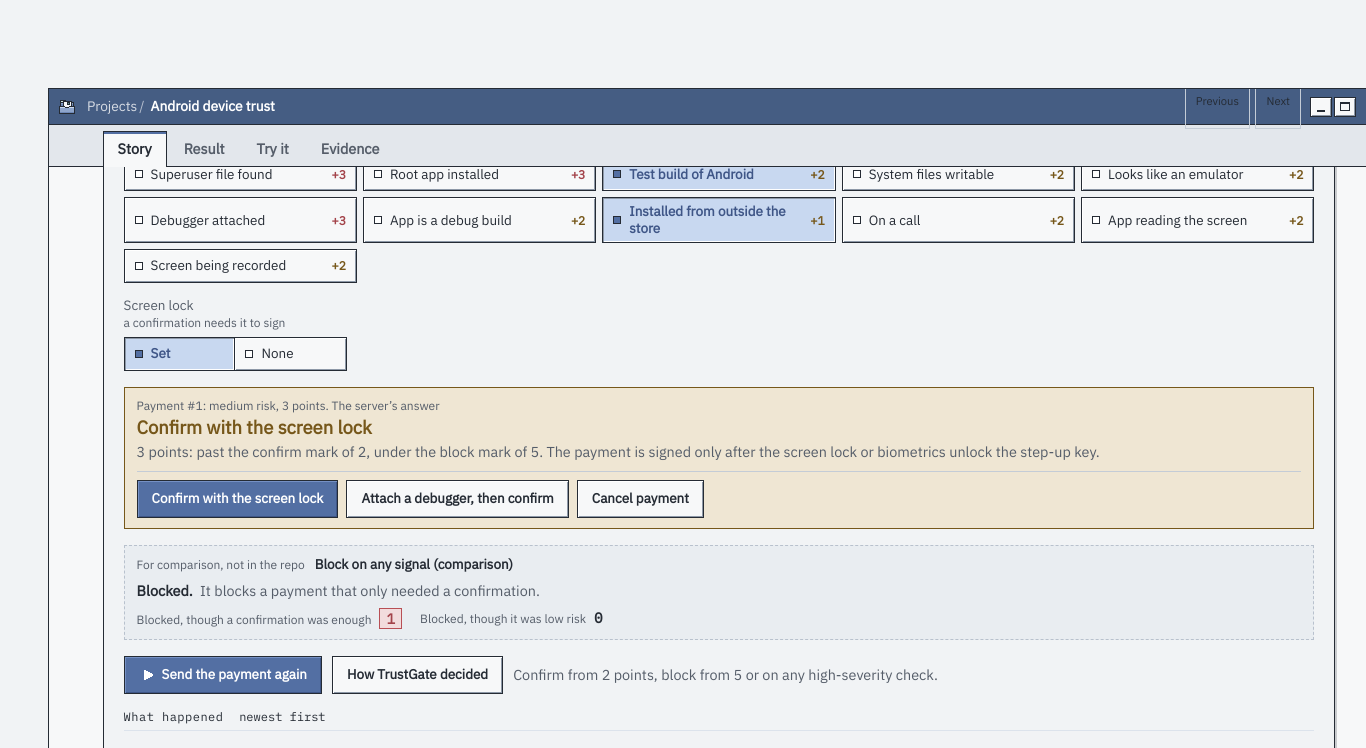
it: DebuggerWorkspace › walks through TrustGate step-up confirmation, re-checks before signing, and opens repo proof
This screenshot has width=1366, height=748.
Later steps or results of the test are not shown.
(page scrolled)
Expected: the text "Confirm with the screen lock" is shown, [137,415,372,439]
Click the button "Confirm with the screen lock": (238, 499) [137,480,338,518]
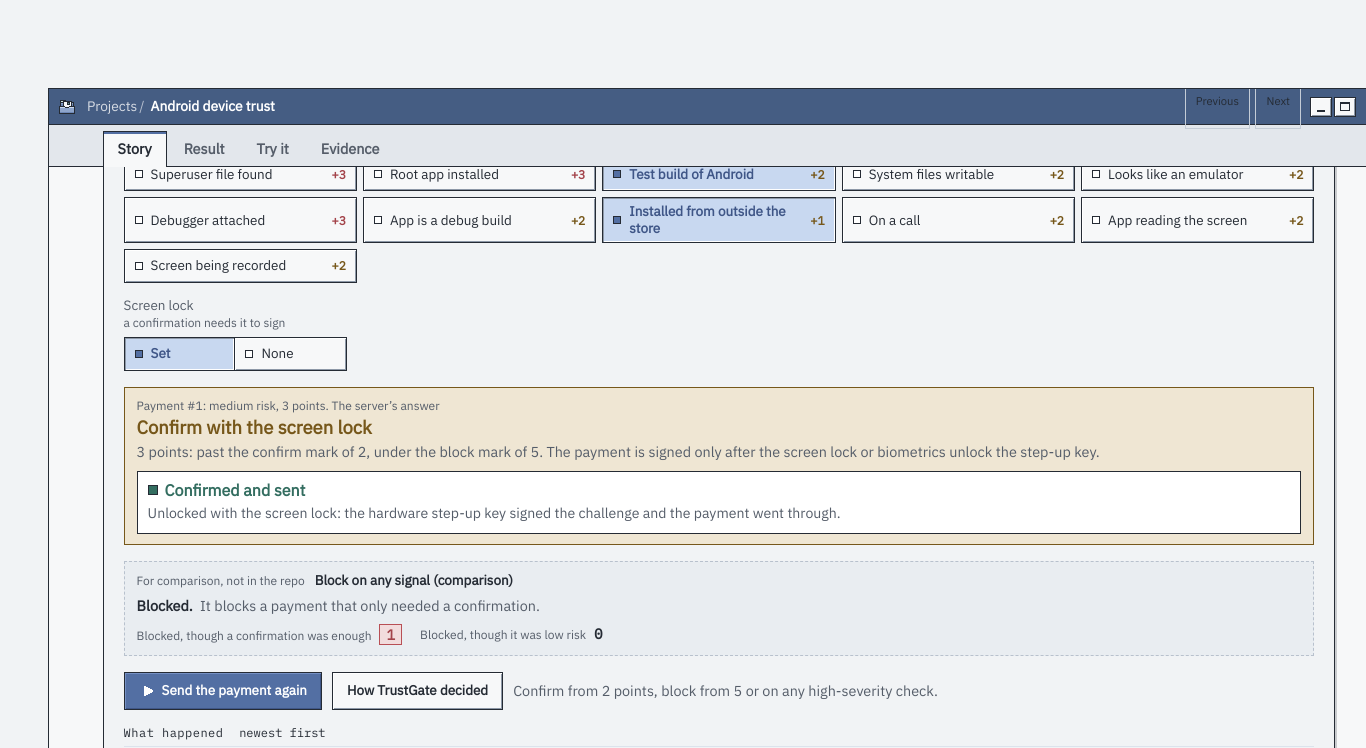
Now the element showing "Confirmed and sent" is shown, box [148,480,305,500]
Click the button "Send the payment again": (223, 691) [124,672,322,710]
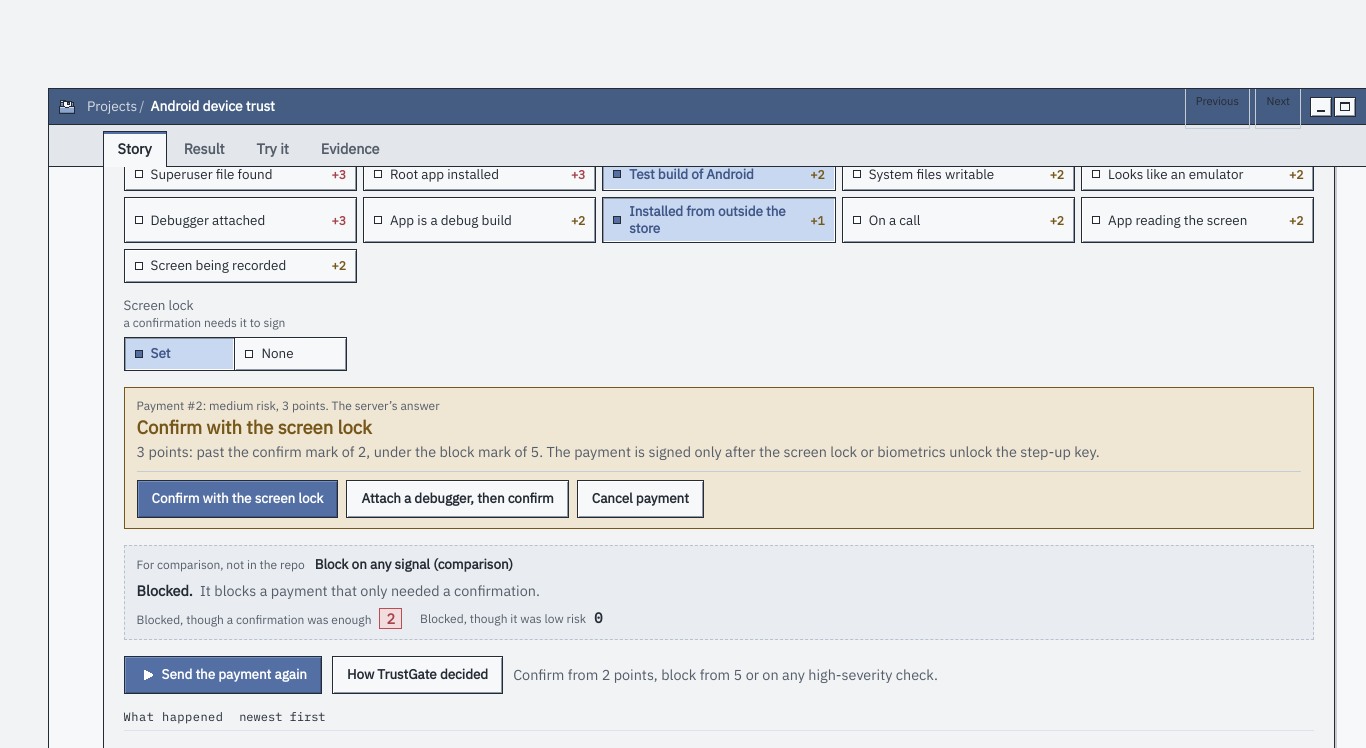
Click the button "Attach a debugger, then confirm": (458, 499) [346,480,569,518]
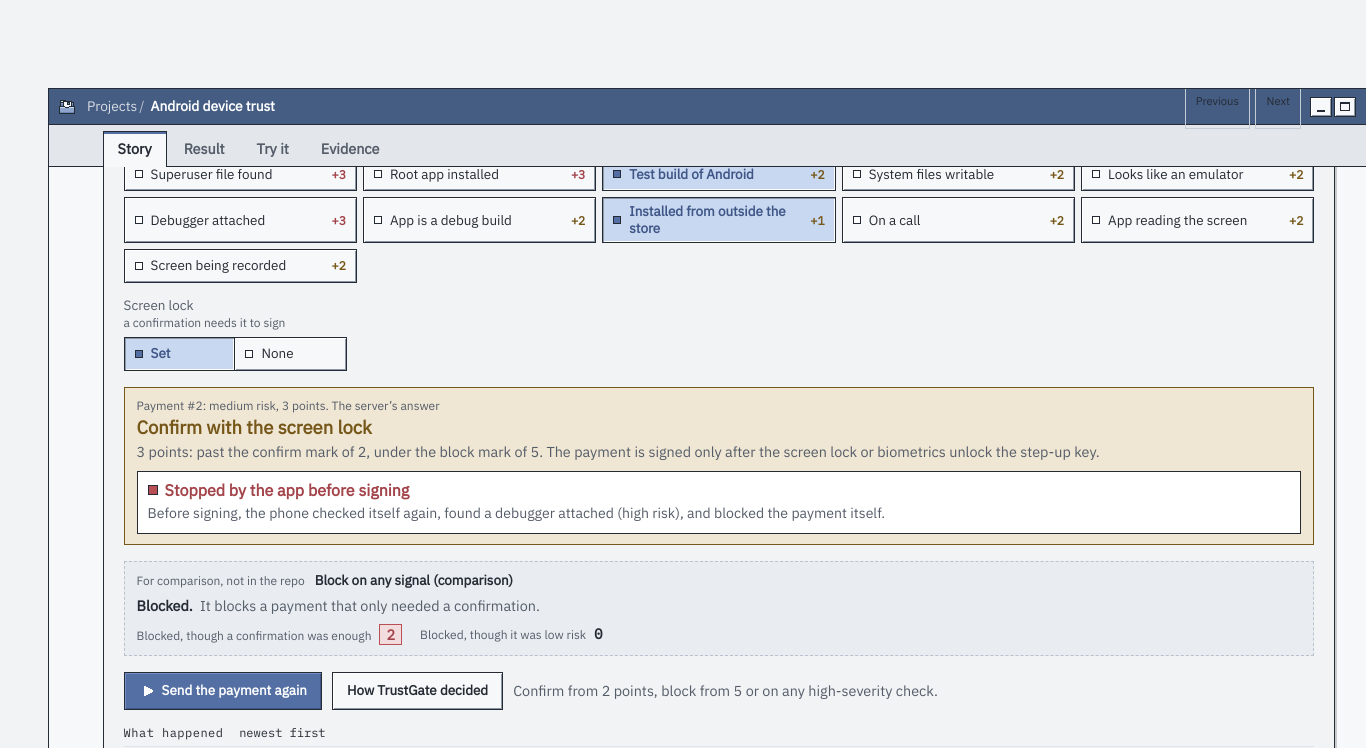
Now the element showing "Stopped by the app before signing" is shown, box [148,480,409,500]
Click the button "Send the payment again": (223, 691) [124,672,322,710]
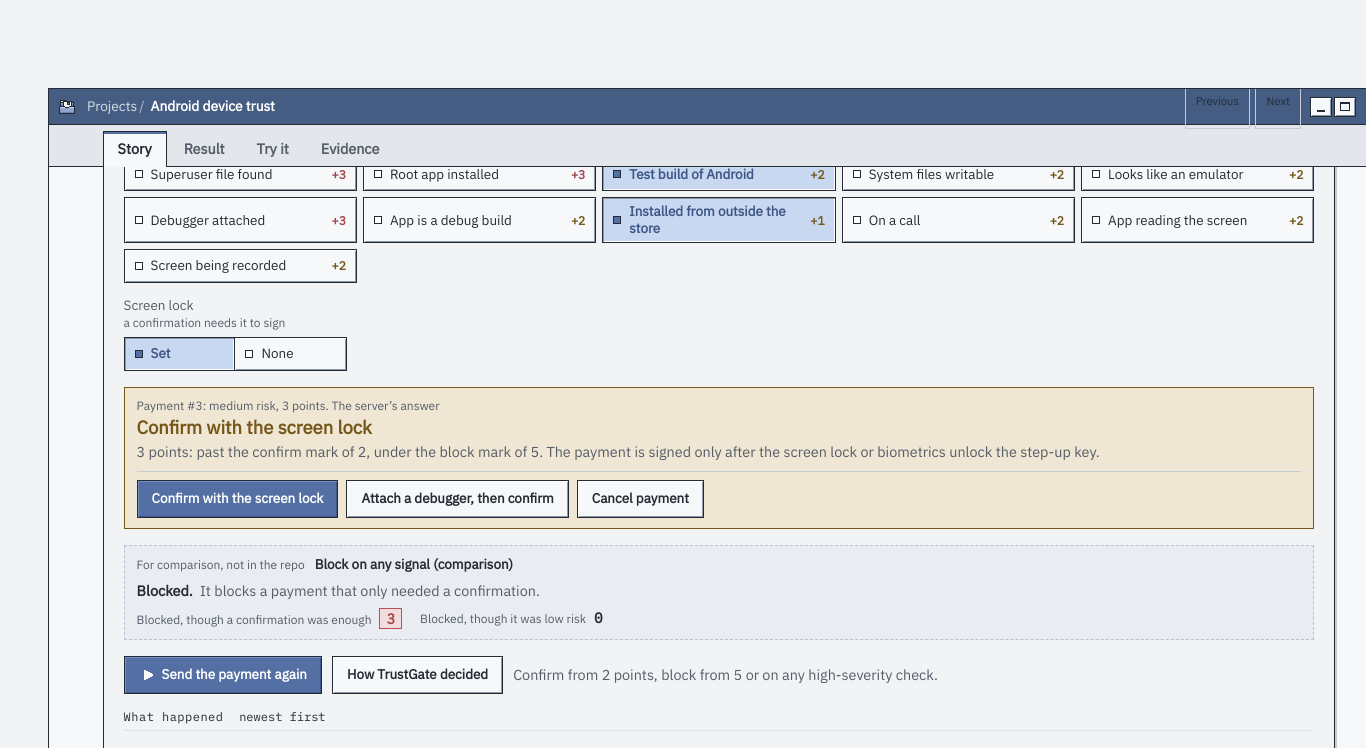
Click the button "Cancel payment": (640, 499) [577,480,704,518]
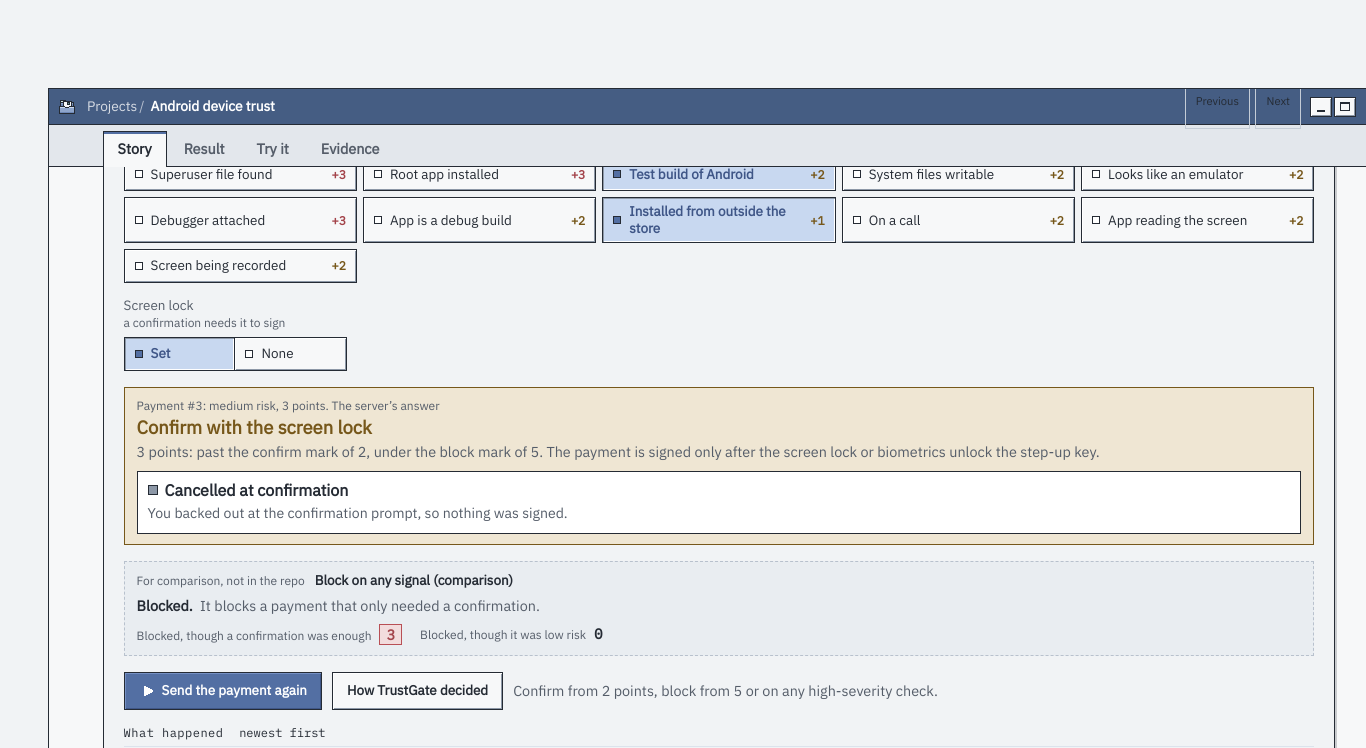
Now the element showing "Cancelled at confirmation" is shown, box [148,480,348,500]
